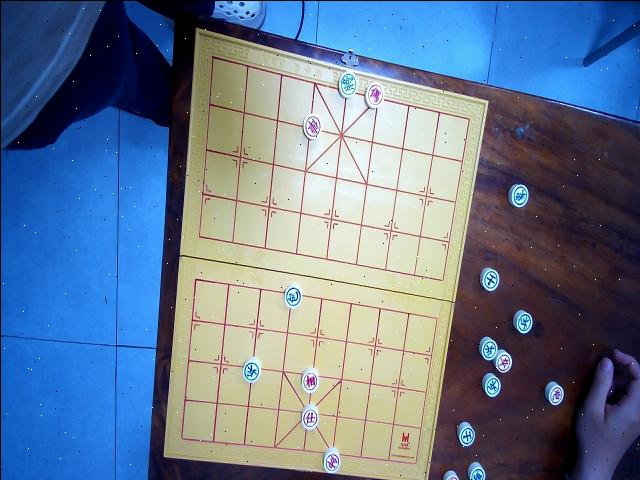piece: (338, 71, 357, 98), (365, 81, 383, 108), (303, 113, 321, 139), (508, 183, 528, 206), (243, 356, 260, 382), (301, 403, 318, 429), (544, 381, 563, 404), (513, 309, 532, 332), (301, 367, 318, 392), (284, 283, 301, 308), (457, 421, 474, 446), (323, 446, 339, 472), (482, 373, 500, 396), (480, 267, 498, 290), (493, 349, 511, 372), (478, 336, 496, 359), (467, 461, 484, 479), (442, 470, 458, 479)
